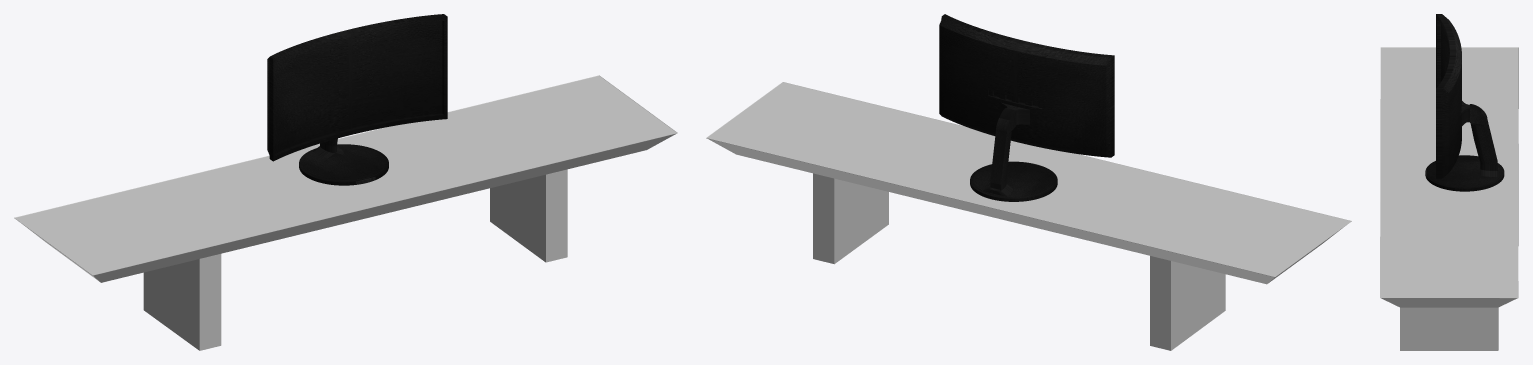
Rendered from mejmon.obj.
3 renders of one model, left to right at view 1: azimuth 30°, elevation 25°; view 2: azimuth 150°, elevation 25°; view 3: azimuth 270°, elevation 25°, orthographic. The views are drawn at different scales.
Visible parts, largest first — view 1: meja, monitor; view 2: meja, monitor; view 3: meja, monitor.
Part boxes in pixels (bbox=[...]): meja: bbox=[14, 75, 677, 350]; monitor: bbox=[267, 14, 447, 185]; meja: bbox=[706, 82, 1351, 350]; monitor: bbox=[939, 14, 1114, 201]; meja: bbox=[1380, 47, 1518, 350]; monitor: bbox=[1425, 14, 1504, 191].
Bounding box in the file's own units: 5.59 × 2.32 × 1.31.
